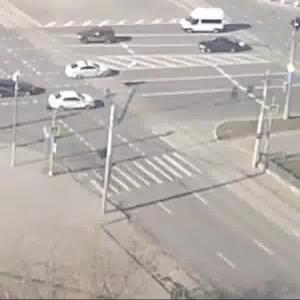car: (179, 9, 227, 32), (49, 94, 102, 113), (69, 62, 114, 81), (202, 37, 244, 56), (77, 27, 116, 46), (1, 79, 19, 96)
